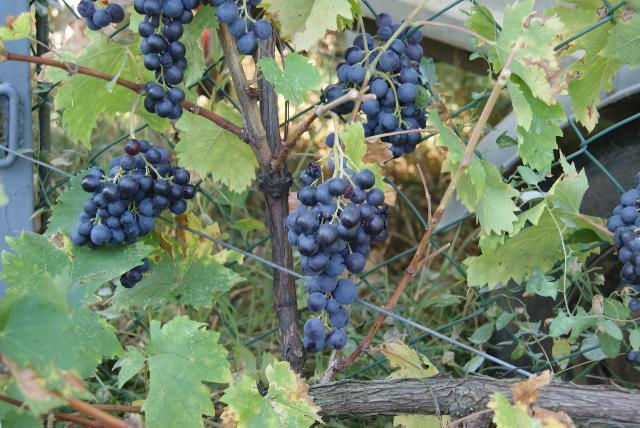grapes: (285, 158, 389, 352), (70, 139, 196, 249), (325, 12, 428, 136), (134, 0, 199, 119)
